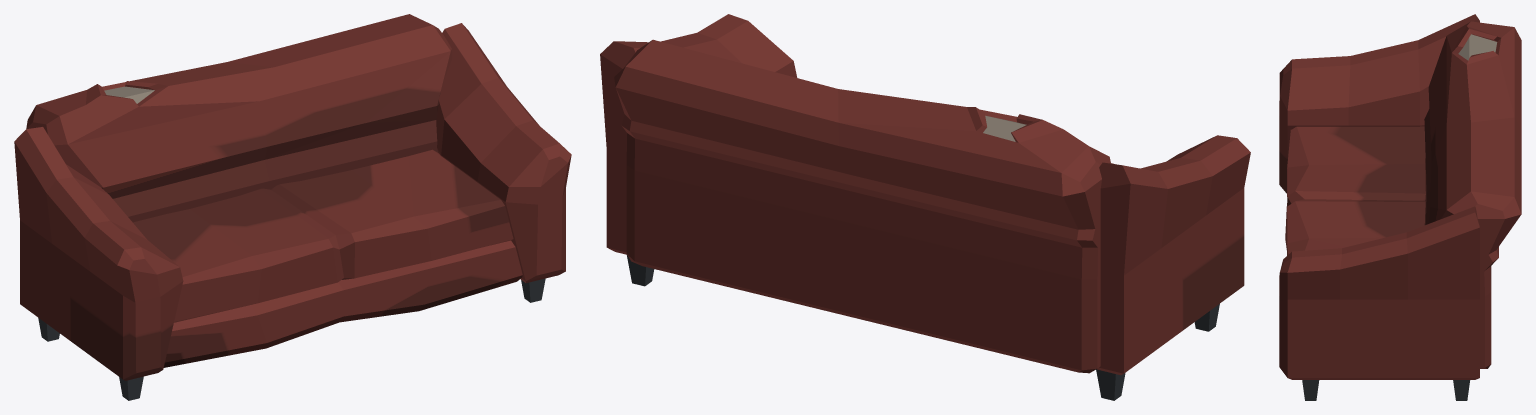
File: SM_Prop_Couch_01.fbx
3 renders of one model, left to right at view 1: azimuth 30°, elevation 25°; view 2: azimuth 150°, elevation 25°; view 3: azimuth 270°, elevation 25°, orthographic. The views are drawn at different scales.
Parts seen in each view (by area): view 1: SM_Prop_Couch_01; view 2: SM_Prop_Couch_01; view 3: SM_Prop_Couch_01.
Part boxes in pixels (left/top/right/bottom): SM_Prop_Couch_01: left=14, top=14, right=571, bottom=400; SM_Prop_Couch_01: left=600, top=14, right=1250, bottom=400; SM_Prop_Couch_01: left=1279, top=14, right=1521, bottom=400.
Size of the model in its own units: 224 by 107 by 111.
